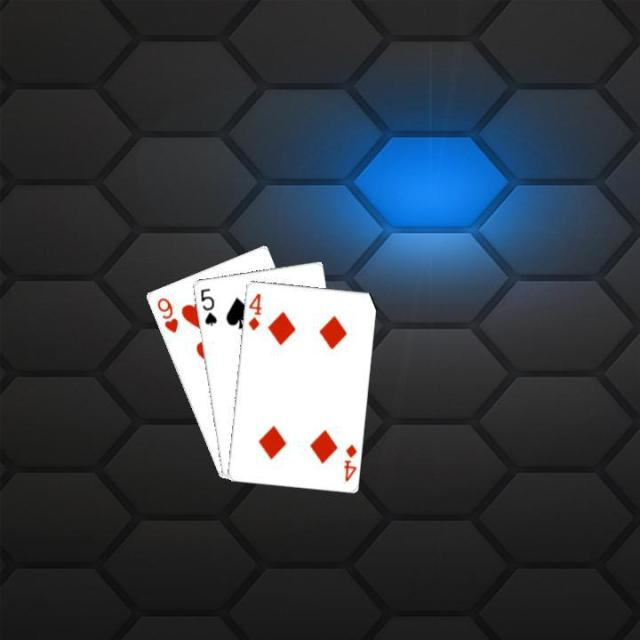4D: (244, 289, 263, 331), (340, 440, 358, 483)
5S: (196, 284, 218, 327)
9H: (153, 293, 179, 335)
